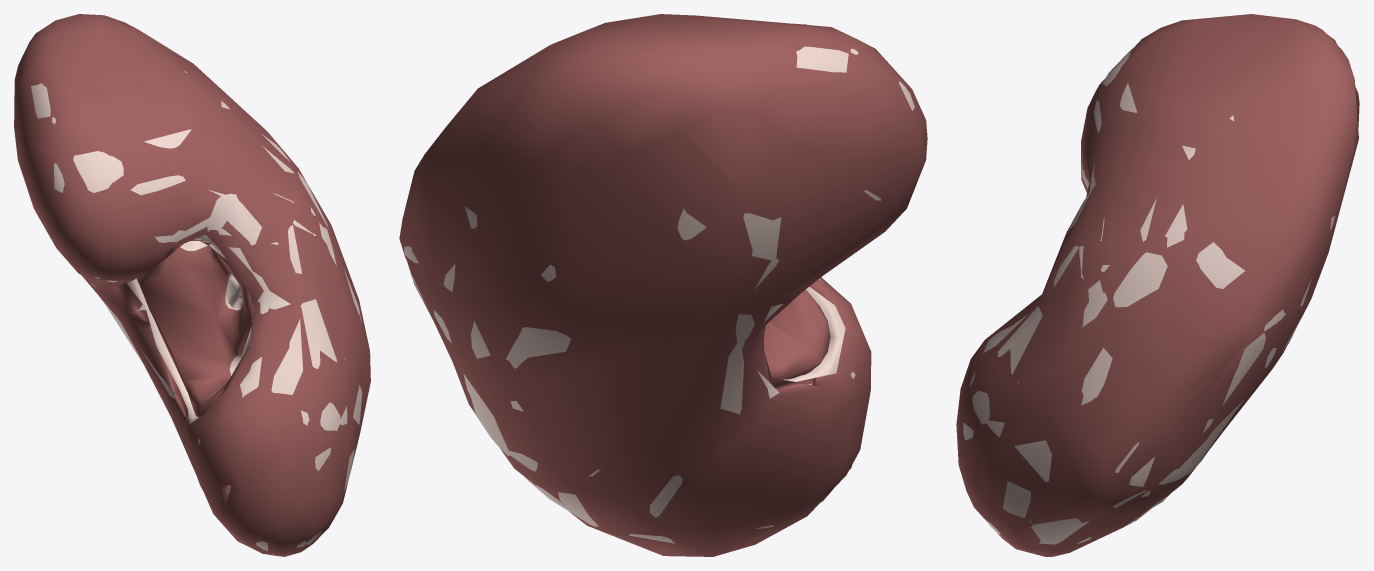
Rendered from kidney_l.glb.
3 views of the same model, side by side, from view 1: azimuth 30°, elevation 25°; view 2: azimuth 150°, elevation 25°; view 3: azimuth 270°, elevation 25° (orthographic). The views are drawn at different scales.
Parts seen in each view (by area): view 1: VH_M_kidney_capsule_L, VH_M_outer_cortex_of_kidney_L, VH_M_hilum_of_kidney_L, VH_M_renal_column_L; view 2: VH_M_kidney_capsule_L, VH_M_outer_cortex_of_kidney_L, VH_M_hilum_of_kidney_L; view 3: VH_M_kidney_capsule_L, VH_M_outer_cortex_of_kidney_L.
Boxes of the visible parts, bbox=[...] form: VH_M_kidney_capsule_L: bbox=[14, 14, 370, 556]; VH_M_outer_cortex_of_kidney_L: bbox=[31, 55, 362, 553]; VH_M_hilum_of_kidney_L: bbox=[136, 240, 253, 417]; VH_M_renal_column_L: bbox=[180, 241, 243, 375]; VH_M_kidney_capsule_L: bbox=[399, 14, 927, 556]; VH_M_outer_cortex_of_kidney_L: bbox=[404, 35, 914, 543]; VH_M_hilum_of_kidney_L: bbox=[764, 289, 830, 379]; VH_M_kidney_capsule_L: bbox=[956, 14, 1359, 556]; VH_M_outer_cortex_of_kidney_L: bbox=[963, 49, 1334, 544].
Size of the model in its own units: 0.0756 by 0.1062 by 0.0818.
